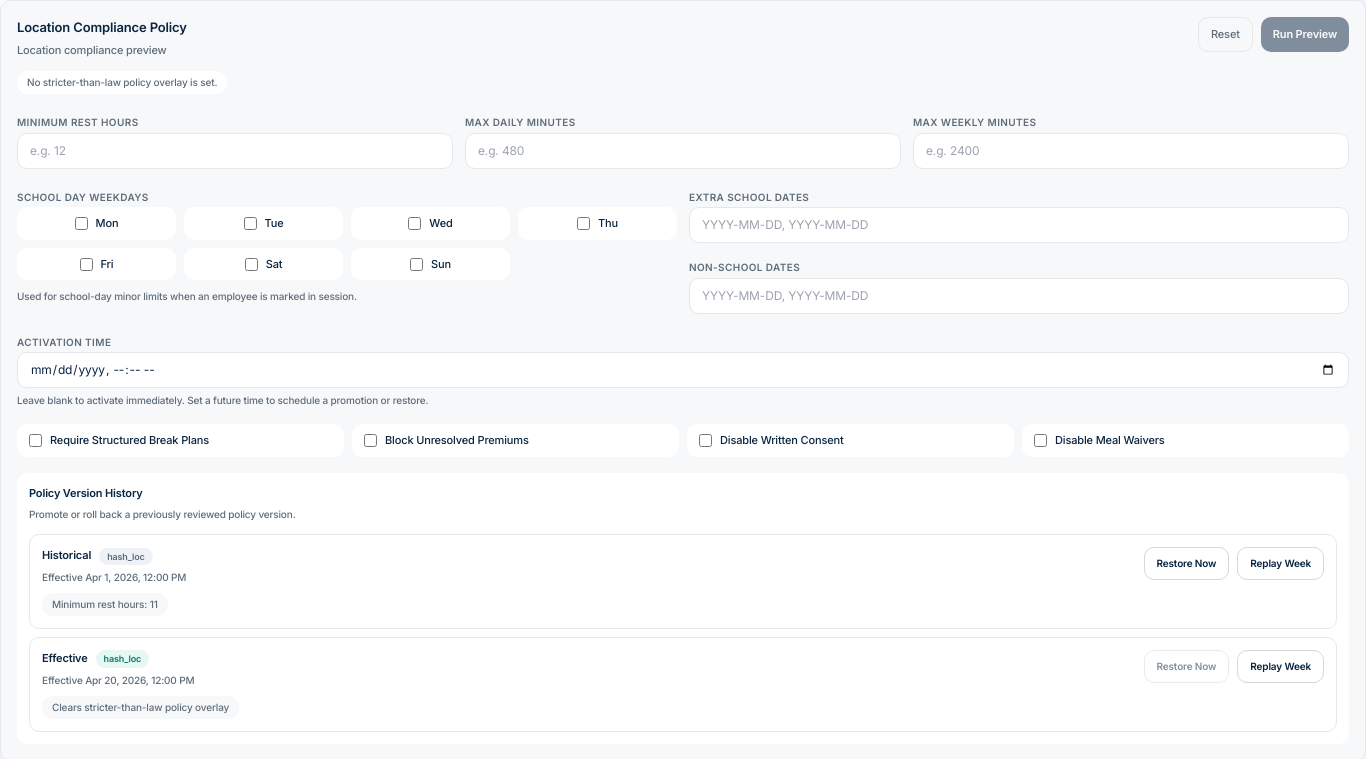
Test case: CompliancePolicySettingsEditor › replays a historical location policy version for the selected week
Step 1. Click the button "Replay Week" in the row of "Apr 1, 2026, 12:00 PM" → (1281, 564), box [1237,548,1324,580]
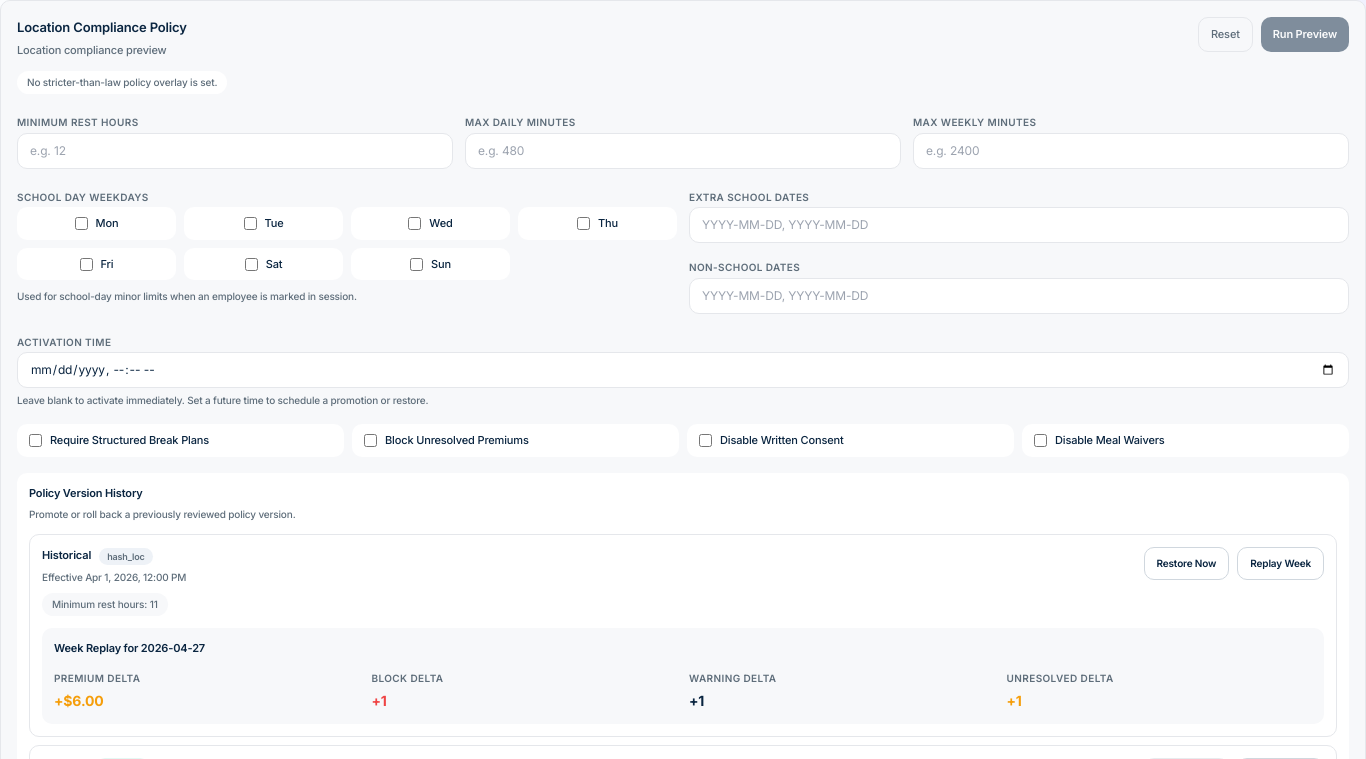
Now the text "+$6.00" is shown, box [54,692,104,709]
